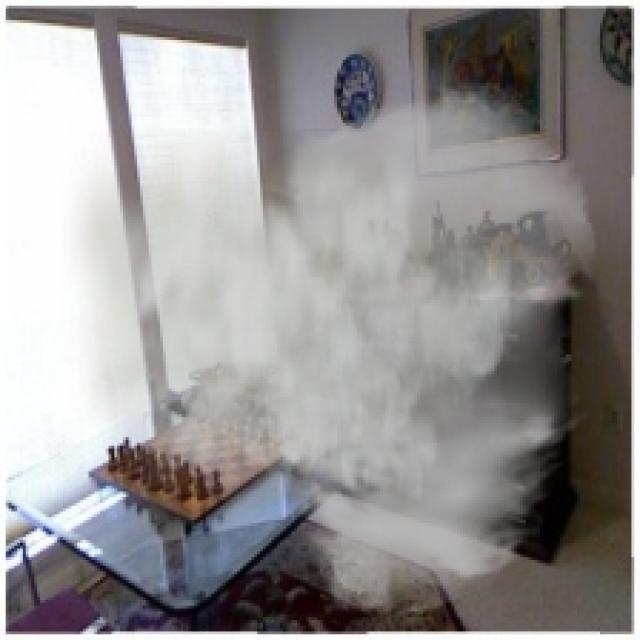Smoke: (60, 77, 600, 620)
